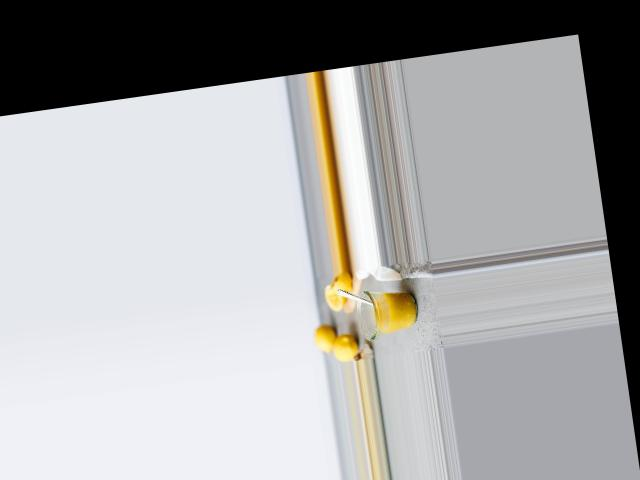lemon: (310, 324, 335, 358)
